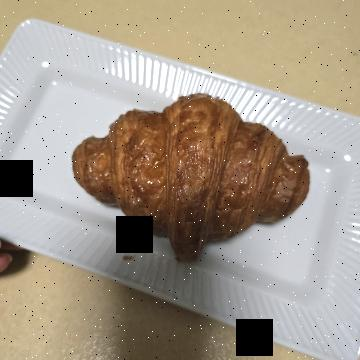croissant: (77, 52, 268, 298)
